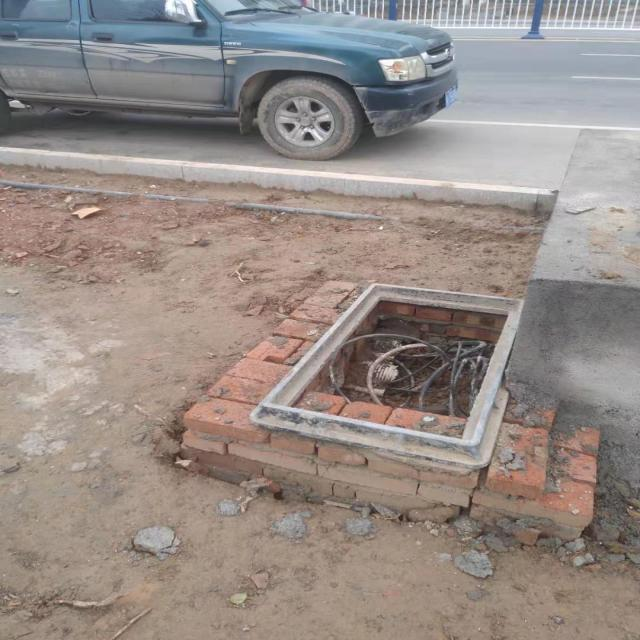Faulty: (243, 279, 526, 476)
